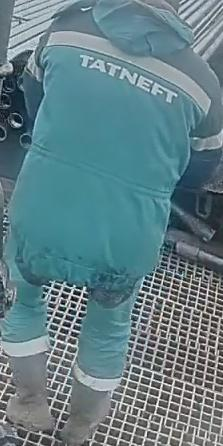vest: (16, 17, 207, 253)
